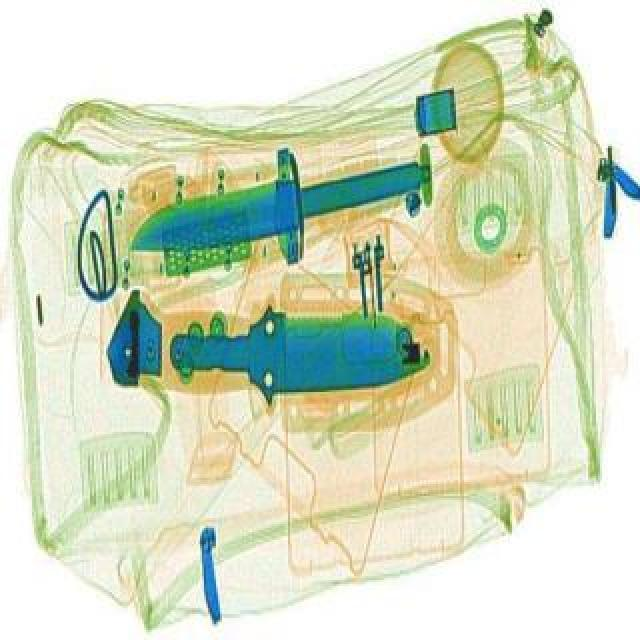knife: (116, 128, 446, 298), (166, 302, 430, 416)
